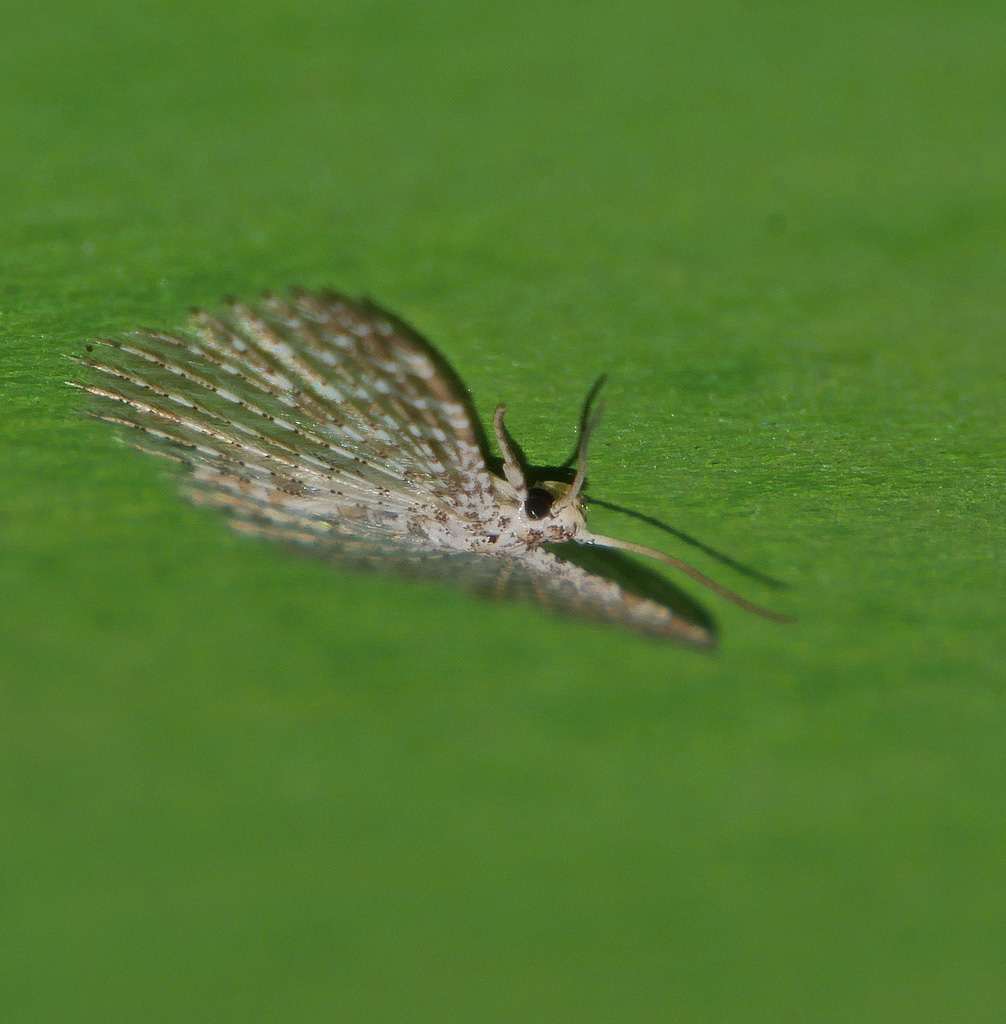Alucitidae: (47, 265, 808, 652)
moth: (49, 267, 810, 654)
